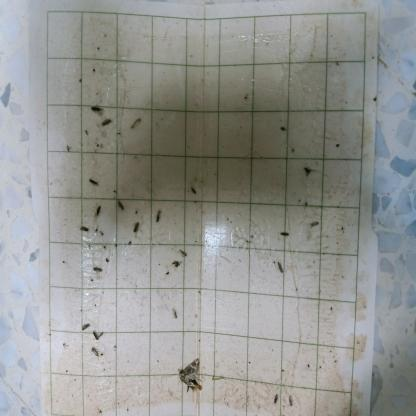prays_oleae: (279, 225, 292, 247), (87, 173, 102, 192), (275, 257, 288, 278), (171, 299, 181, 326), (129, 221, 143, 240), (114, 195, 127, 214), (94, 200, 103, 225), (89, 344, 101, 362), (78, 218, 91, 234), (92, 330, 107, 343), (308, 214, 320, 230), (90, 103, 103, 116), (101, 118, 113, 132), (93, 262, 103, 278), (272, 392, 282, 408), (78, 318, 90, 331), (156, 210, 164, 226), (171, 259, 180, 271), (180, 245, 187, 259)
